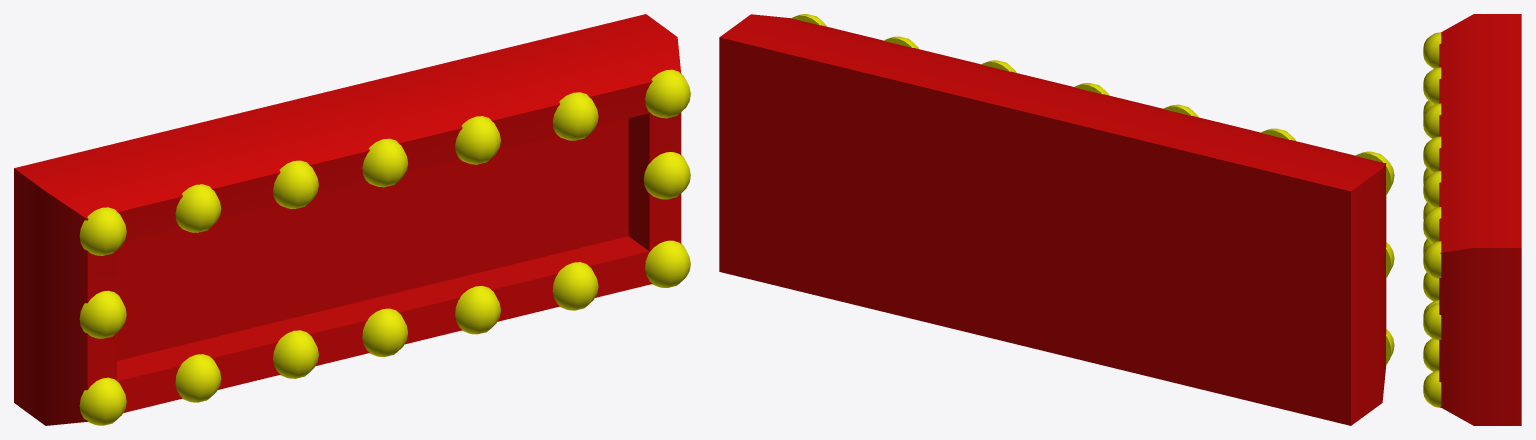
The model's file is Scoreboard.fbx.
The picture shows the model from 3 angles, left to right: view 1: azimuth 30°, elevation 25°; view 2: azimuth 150°, elevation 25°; view 3: azimuth 270°, elevation 25°; orthographic projection. The views are drawn at different scales.
Visible parts, largest first — view 1: pCube1, pSphere4, pSphere16, pSphere13, pSphere8, pSphere14, pSphere9, pSphere10, pSphere11, pSphere15, pSphere7, pSphere5 (+5 smaller); view 2: pCube1; view 3: pCube1, pSphere5, pSphere16, pSphere12, pSphere3, pSphere7, pSphere4, pSphere1, pSphere6, pSphere2, pSphere13, pSphere8.
Boxes of the visible parts, x1,y1,x2,y2 form: pCube1: (14, 14, 681, 425); pSphere4: (79, 207, 126, 255); pSphere16: (643, 152, 690, 199); pSphere13: (552, 262, 598, 310); pSphere8: (362, 308, 407, 356); pSphere14: (455, 286, 500, 334); pSphere9: (273, 330, 318, 378); pSphere10: (175, 354, 221, 402); pSphere11: (79, 377, 126, 425); pSphere15: (79, 290, 126, 338); pSphere7: (455, 116, 500, 164); pSphere5: (645, 69, 690, 118); pCube1: (719, 14, 1386, 425); pCube1: (1439, 14, 1521, 425); pSphere5: (1423, 241, 1441, 278); pSphere16: (1423, 303, 1441, 340); pSphere12: (1423, 370, 1441, 407); pSphere3: (1423, 67, 1441, 104); pSphere7: (1423, 171, 1441, 207); pSphere4: (1423, 32, 1441, 68); pSphere1: (1423, 136, 1441, 172); pSphere6: (1423, 207, 1441, 242); pSphere2: (1423, 103, 1441, 138); pSphere13: (1423, 338, 1439, 371); pSphere8: (1423, 272, 1439, 301).
Size of the model in its own units: 4.34 by 1.54 by 0.7721.
